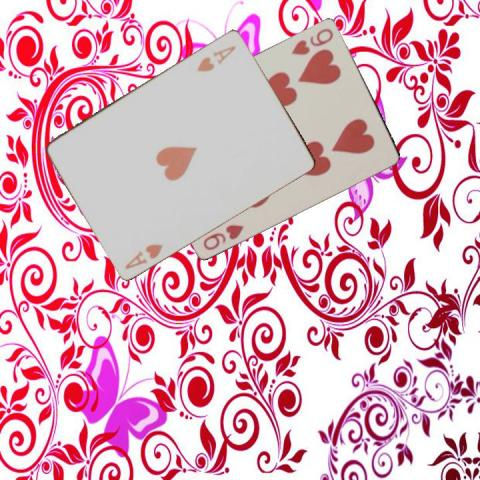9h: (289, 25, 335, 56), (200, 221, 246, 251)
Ah: (121, 240, 165, 271), (194, 42, 237, 73)
